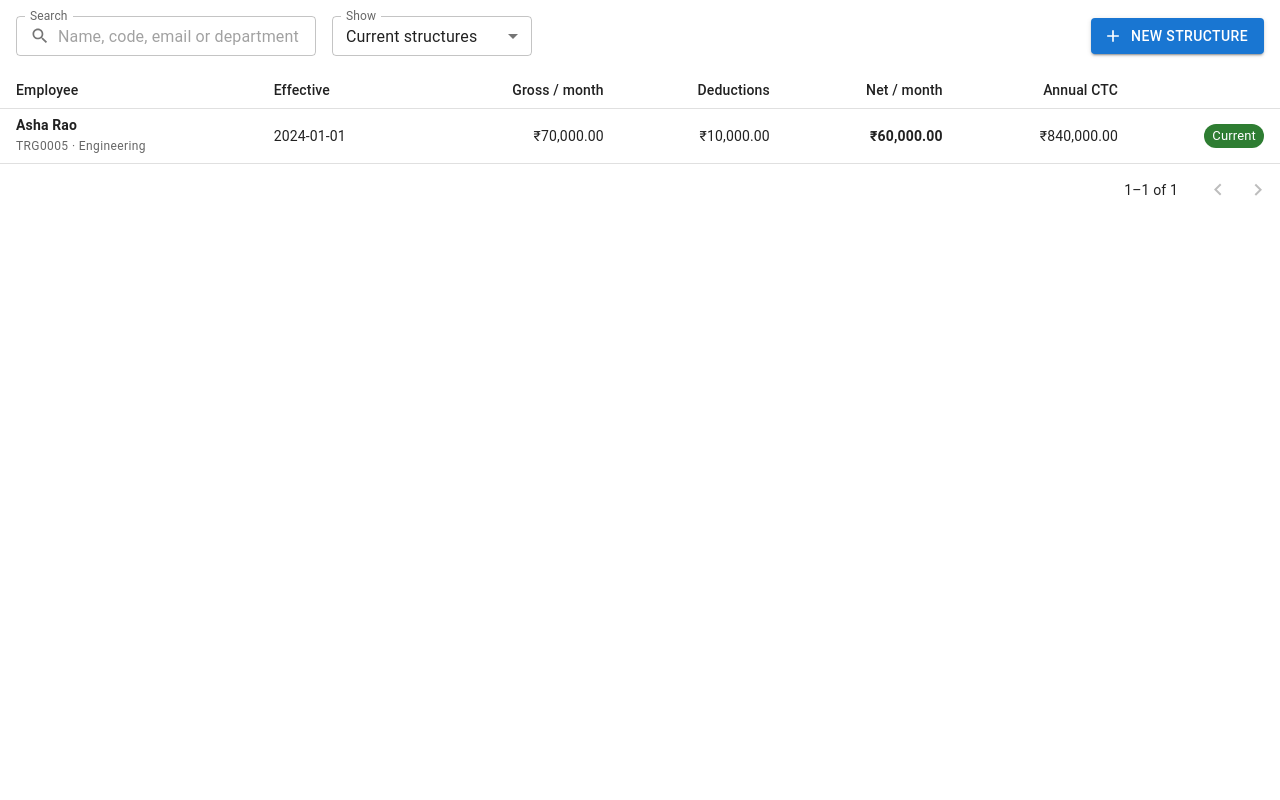
Scenario: SalaryStructuresTab — choosing the employee › selects the employee that was clicked
Click the button "New structure" at [1178, 36], box [1091,18,1264,54]
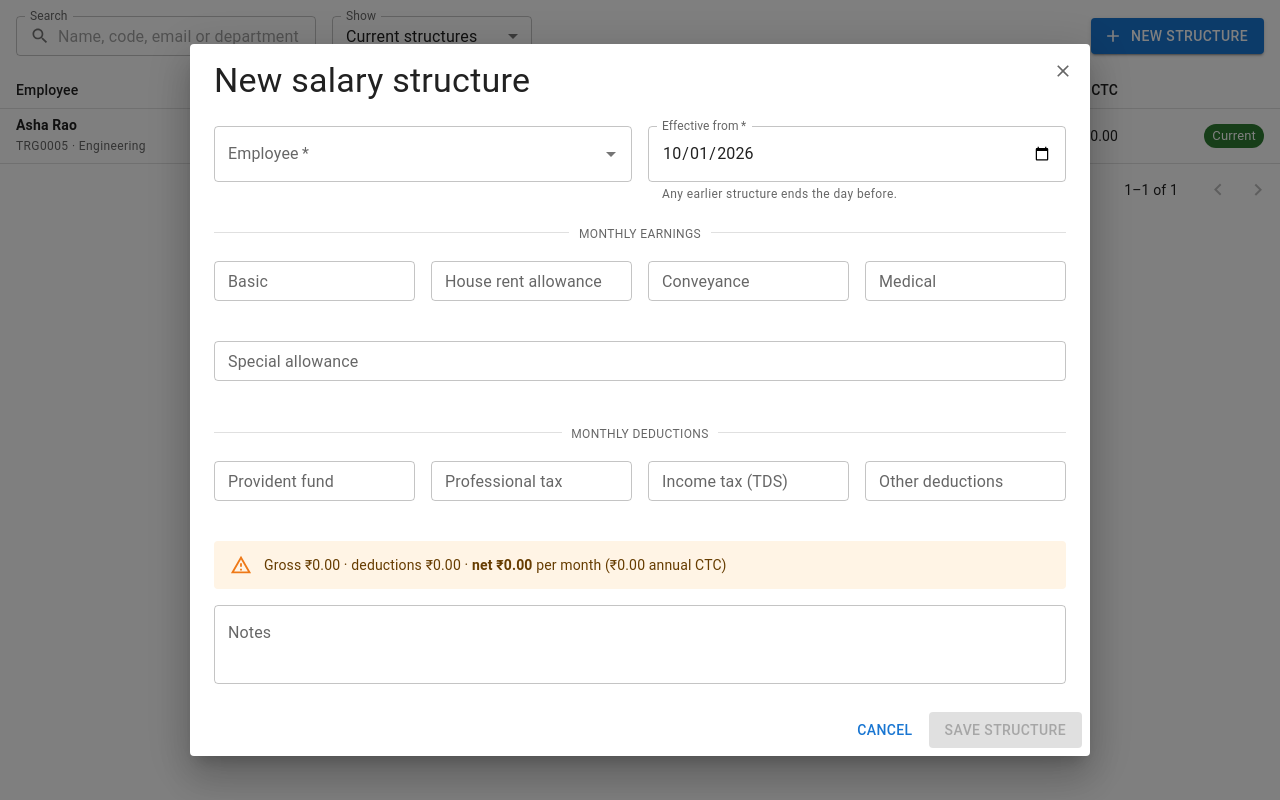
Type "Kart" into the dropdown labelled "Employee *" at [408, 154], box [223,135,593,173]
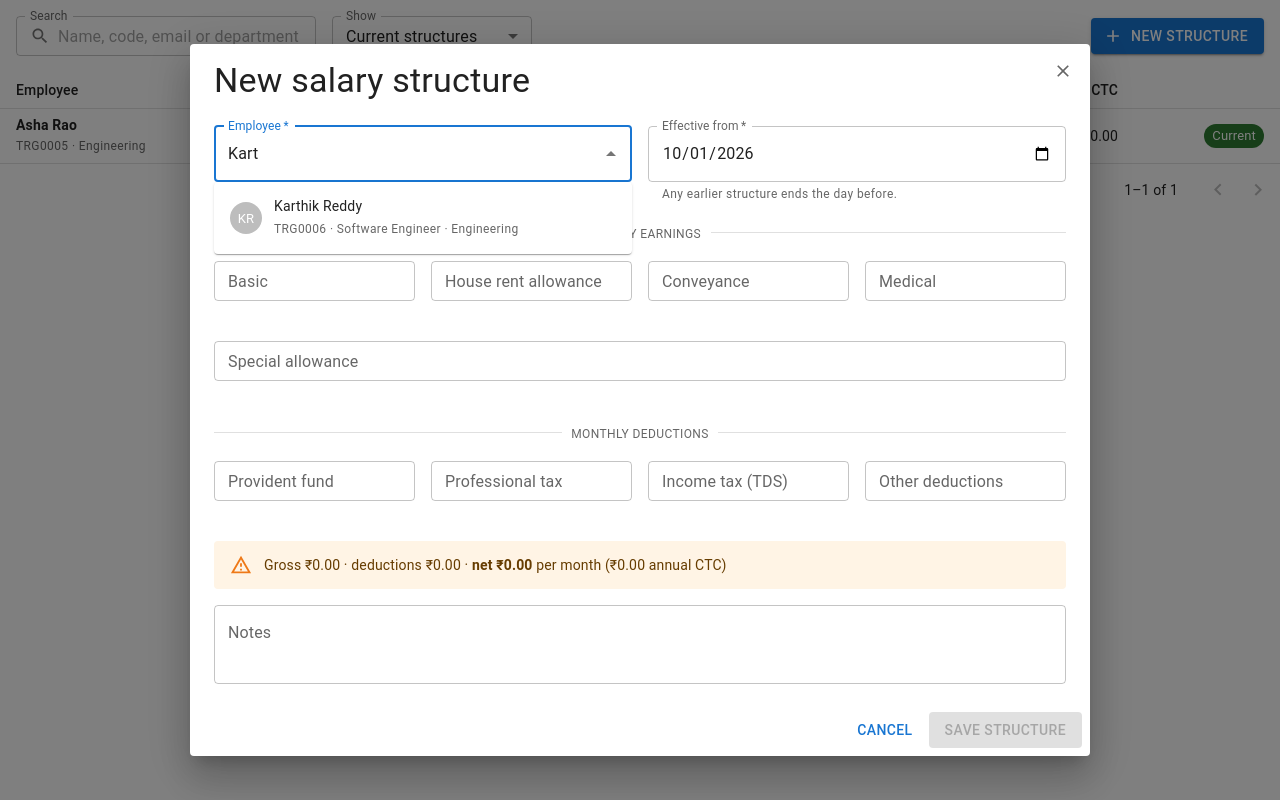
Click the option "KR Karthik Reddy TRG0006 · Software Engineer · Engineering" at [246, 218], box [230,198,518,236]
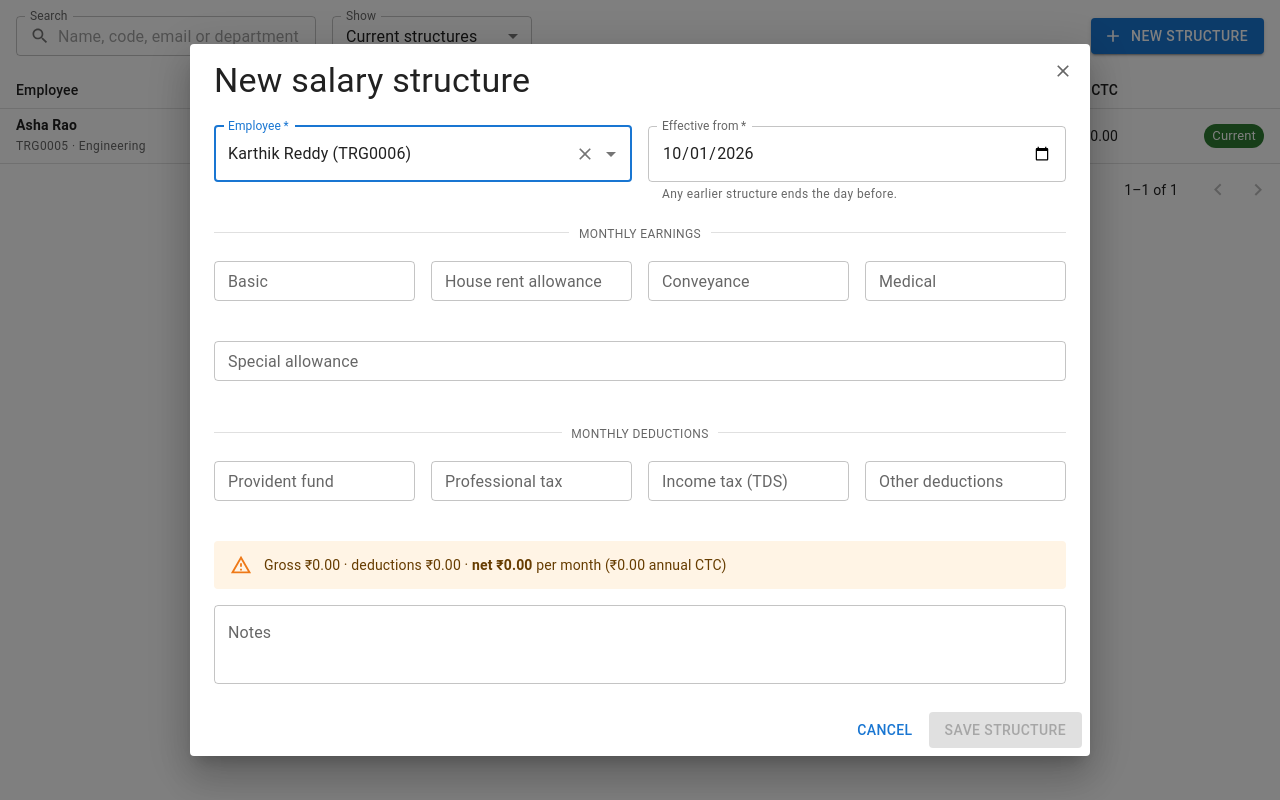
Now the dropdown labelled "Employee *" holds "Karthik Reddy (TRG0006)", box [223,135,567,173]
